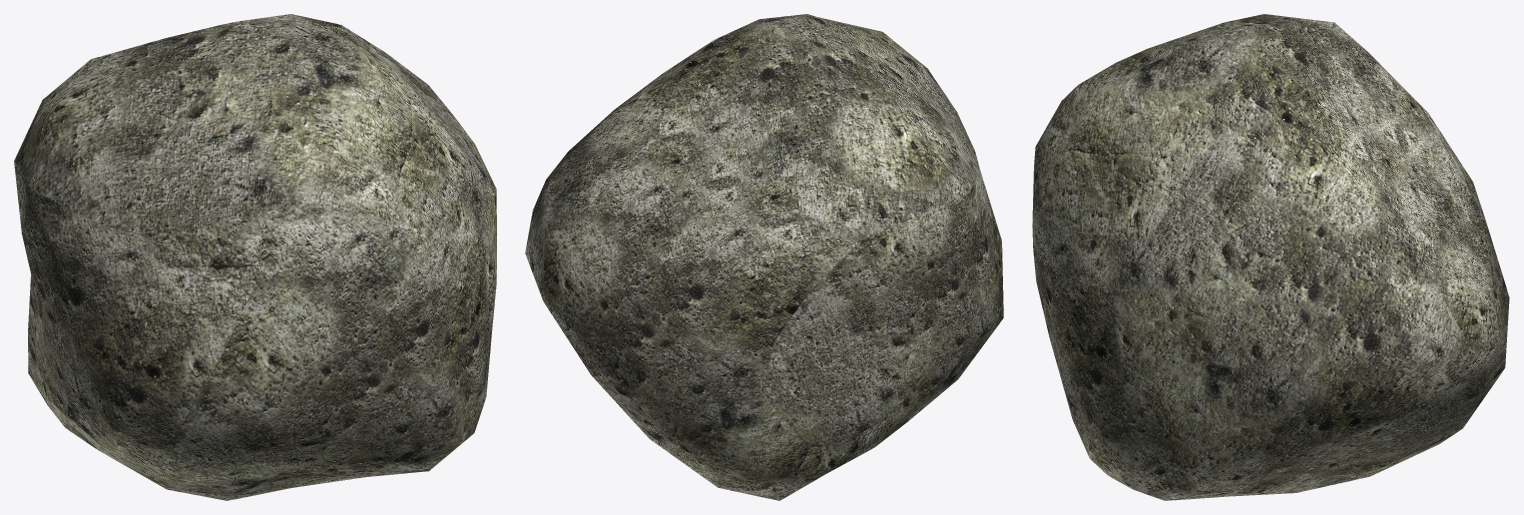
File: ast_upg_03.FBX
3 renders of one model, left to right at view 1: azimuth 30°, elevation 25°; view 2: azimuth 150°, elevation 25°; view 3: azimuth 270°, elevation 25°, orthographic. The views are drawn at different scales.
Visible parts, largest first — view 1: ast_upg_03; view 2: ast_upg_03; view 3: ast_upg_03.
Boxes of the visible parts, x1=… form: ast_upg_03: x1=14, y1=14, x2=496, y2=500; ast_upg_03: x1=525, y1=14, x2=1003, y2=500; ast_upg_03: x1=1032, y1=14, x2=1509, y2=500.
Size of the model in its own units: 78.87 by 78.86 by 76.24.
